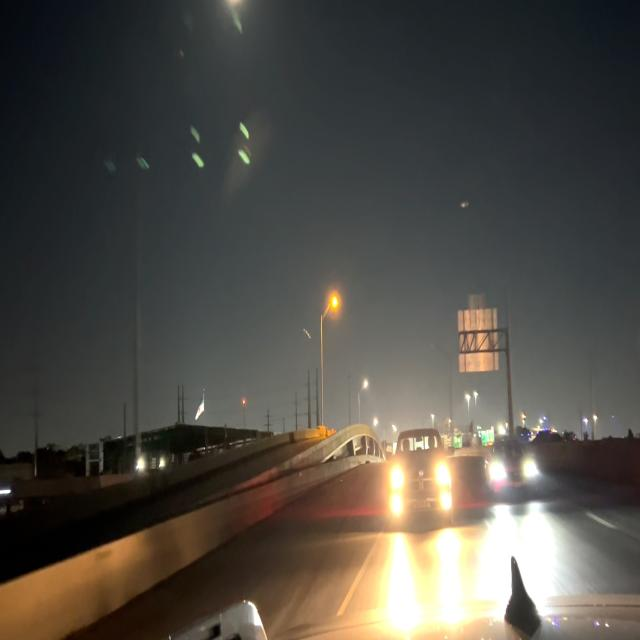back-of-sign: (459, 289, 499, 377)
